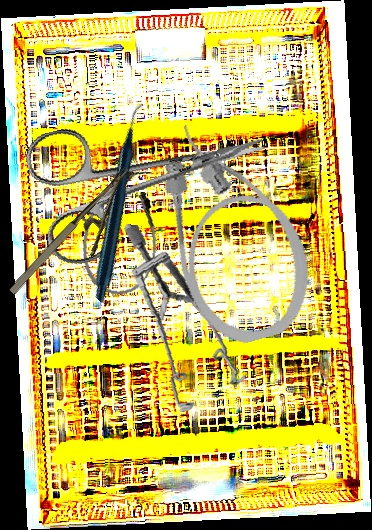Cannula: (143, 103, 325, 355), (75, 163, 169, 300)
Handpiece: (18, 101, 225, 305)
Iris Scissors: (21, 82, 282, 271)
Needle Holder: (5, 166, 154, 315)
Speculum: (103, 223, 263, 420)
